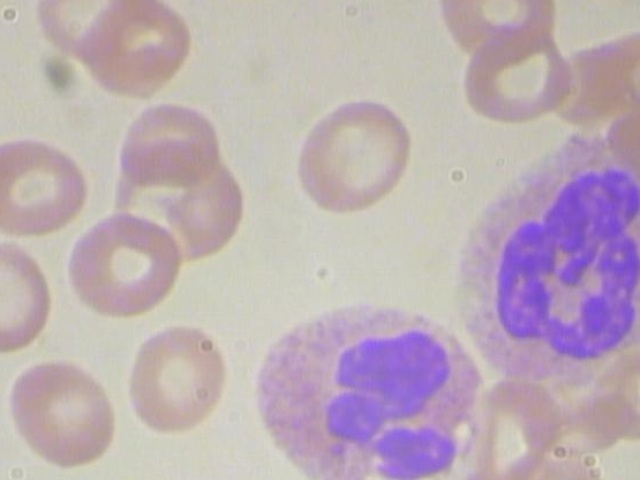RBC: (283, 94, 420, 223), (115, 311, 252, 440), (2, 349, 139, 478), (69, 209, 192, 316), (452, 22, 575, 129), (106, 88, 229, 194), (75, 0, 198, 101), (0, 129, 92, 237), (0, 234, 58, 364)
WBC: (447, 127, 640, 400), (231, 296, 485, 480)
